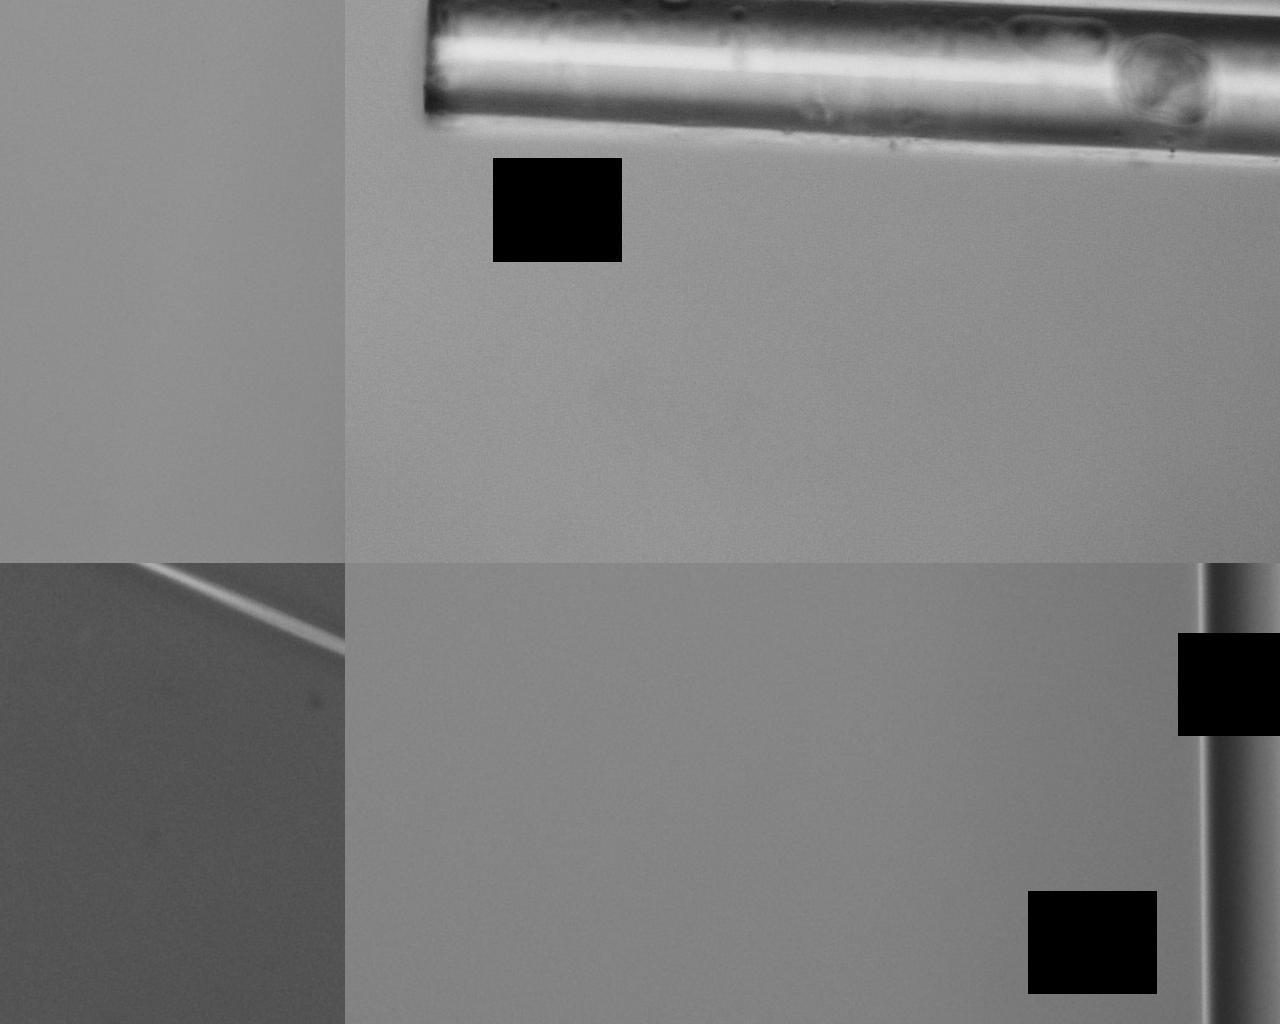fiber: (875, 0, 1232, 317), (886, 317, 1280, 594), (98, 317, 652, 409), (86, 0, 243, 317)
